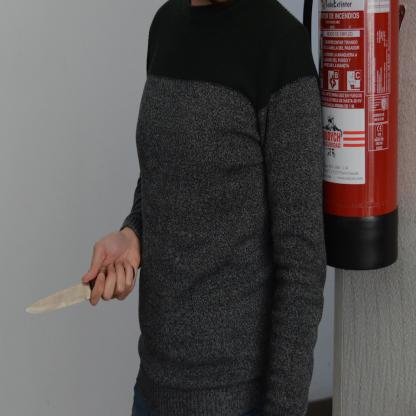knife: (21, 265, 109, 320)
